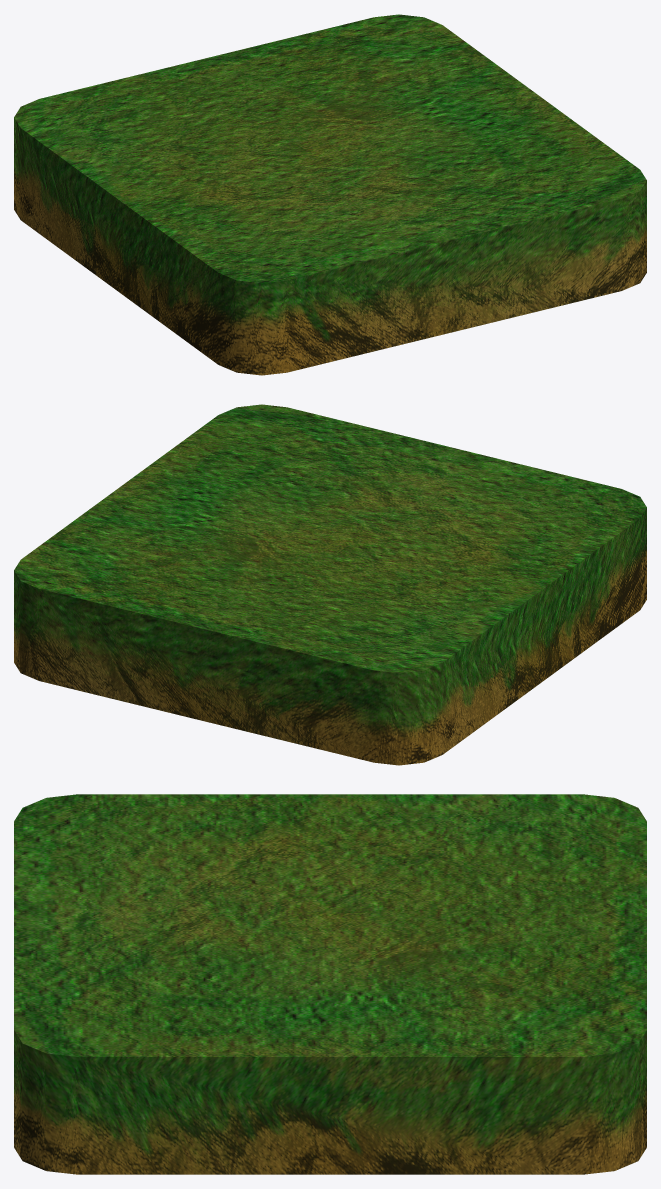
File: grassyTile.fbx
3 views of the same model, one above another, from view 1: azimuth 30°, elevation 25°; view 2: azimuth 150°, elevation 25°; view 3: azimuth 270°, elevation 25° (orthographic). The views are drawn at different scales.
Visible parts, largest first — view 1: flat_tile:pCube1; view 2: flat_tile:pCube1; view 3: flat_tile:pCube1.
Part boxes in pixels (bbox=[...]): flat_tile:pCube1: bbox=[14, 14, 646, 375]; flat_tile:pCube1: bbox=[14, 404, 646, 765]; flat_tile:pCube1: bbox=[14, 794, 646, 1174].
Size of the model in its own units: 2 by 0.4186 by 2.04.
1 material, 1 textured.
